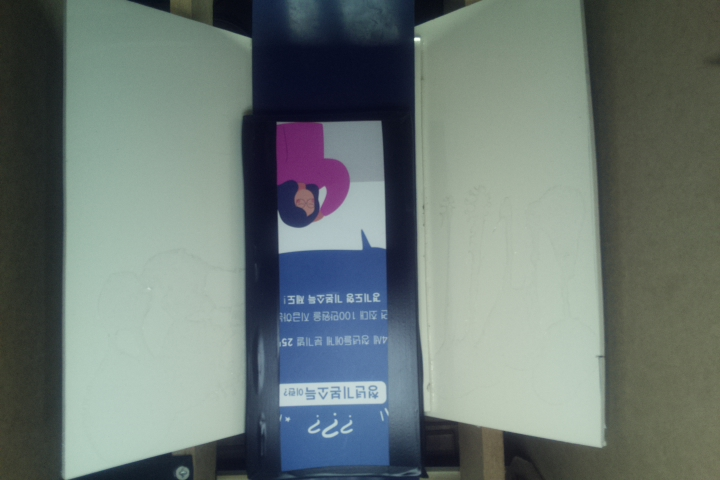book: (242, 101, 427, 480)
